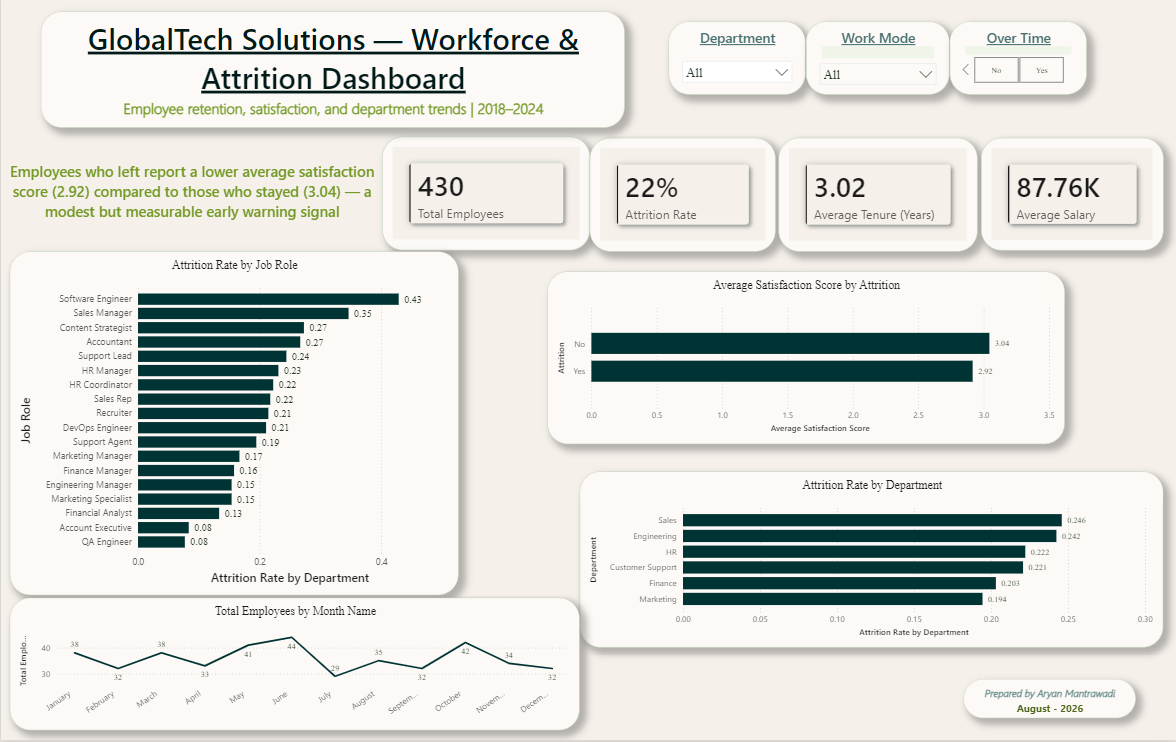

The dashboard page shown, as its layout file describes it:
{"tool":"powerbi","page":{"name":"Workforce Overview","canvas":[1710,1080],"ordinal":0},"visuals":[{"type":"cardVisual","fields":{"Data":["HR Export.Total Employees"]},"box":[554.1,200,302.3,165.6],"z":0},{"type":"cardVisual","fields":{"Data":["HR Export.Attrition Rate"]},"box":[855.7,201.6,270.2,165.6],"z":1},{"type":"cardVisual","fields":{"Data":["HR Export.Average Tenure (Years)"]},"box":[1131.1,201.6,289.5,165.6],"z":2},{"type":"cardVisual","fields":{"Data":["HR Export.Average Salary"]},"box":[1426.2,201.6,265.3,164],"z":3},{"type":"barChart","title":"Attrition Rate by Department","fields":{"Category":["HR Export.Department"],"Y":["HR Export.Attrition Rate by Department"]},"box":[849.1,670.9,849.1,256.4],"z":4},{"type":"barChart","title":"Attrition Rate by Job Role","fields":{"Category":["HR Export.Job Role"],"Y":["HR Export.Attrition Rate by Department"]},"box":[12.7,367.3,652.7,500],"z":5},{"type":"clusteredBarChart","fields":{"Category":["HR Export.Attrition"],"Y":["HR Export.Average Satisfaction Score"]},"box":[794.5,396.4,752.7,250.9],"z":6},{"type":"lineChart","fields":{"Y":["HR Export.Total Employees"],"Category":["Calendar.Month Name"]},"box":[12.7,870.9,829.1,192.7],"z":7},{"type":"textbox","title":"GlobalTech Solutions — Workforce & Attrition Dashboard","box":[58.3,18.2,849.1,168.8],"z":8},{"type":"slicer","title":"Department","fields":{"Values":["HR Export.Department"]},"box":[971.1,32.7,199.4,106.1],"z":9},{"type":"slicer","title":"Work Mode","fields":{"Values":["HR Export.Work Mode"]},"box":[1170.5,32.7,209,106.1],"z":10},{"type":"slicer","title":"Over Time","fields":{"Values":["HR Export.OverTime"]},"box":[1379.6,32.7,199.4,106.1],"z":11},{"type":"textbox","box":[0,230.9,555.9,103.9],"z":12},{"type":"textbox","title":"Prepared by Aryan Mantrawadi","box":[1400,989.1,250,57],"z":13}]}

Visuals, with their boxes in screenshot pixels (x1, y1, x2, y2), scaled from the page's 1710x1080 canvas onto the 1176x742 screenshot:
cardVisual - HR Export.Total Employees: <bbox>381, 137, 589, 251</bbox>
cardVisual - HR Export.Attrition Rate: <bbox>588, 139, 774, 252</bbox>
cardVisual - HR Export.Average Tenure (Years): <bbox>778, 139, 977, 252</bbox>
cardVisual - HR Export.Average Salary: <bbox>981, 139, 1163, 251</bbox>
"Attrition Rate by Department" barChart: <bbox>584, 461, 1168, 637</bbox>
"Attrition Rate by Job Role" barChart: <bbox>9, 252, 458, 596</bbox>
clusteredBarChart - HR Export.Attrition x HR Export.Average Satisfaction Score: <bbox>546, 272, 1064, 445</bbox>
lineChart - HR Export.Total Employees x Calendar.Month Name: <bbox>9, 598, 579, 731</bbox>
"GlobalTech Solutions — Workforce & Attrition Dashboard" textbox: <bbox>40, 13, 624, 128</bbox>
"Department" slicer: <bbox>668, 22, 805, 95</bbox>
"Work Mode" slicer: <bbox>805, 22, 949, 95</bbox>
"Over Time" slicer: <bbox>949, 22, 1086, 95</bbox>
textbox: <bbox>0, 159, 382, 230</bbox>
"Prepared by Aryan Mantrawadi" textbox: <bbox>963, 680, 1135, 719</bbox>
